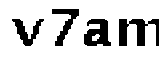7: (48, 5, 80, 50)
a: (82, 16, 113, 49)
m: (115, 14, 160, 51)
v: (10, 17, 43, 51)
